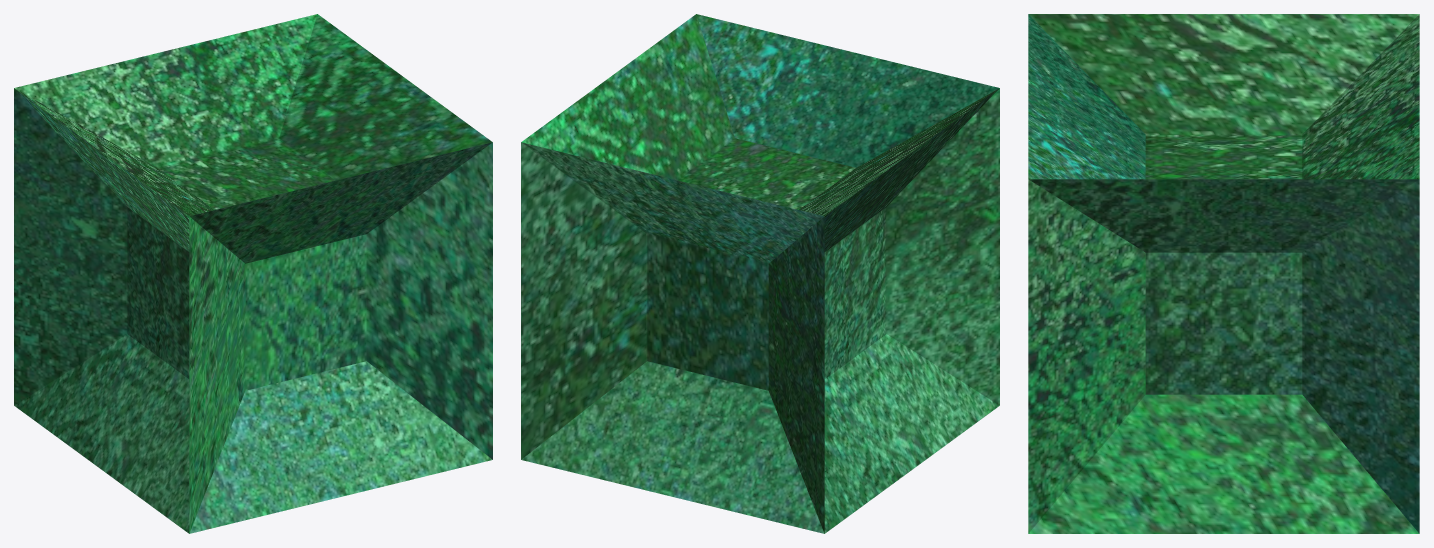
File: silicone.glb
3 views of the same model, side by side, from view 1: azimuth 30°, elevation 25°; view 2: azimuth 150°, elevation 25°; view 3: azimuth 270°, elevation 25° (orthographic). The views are drawn at different scales.
Parts seen in each view (by area): view 1: silicone; view 2: silicone; view 3: silicone.
Boxes of the visible parts, x1,y1,x2,y2 form: silicone: [14, 14, 492, 533]; silicone: [521, 14, 999, 533]; silicone: [1028, 14, 1419, 533].
Size of the model in its own units: 1 by 1 by 1.
Materials: 1 (1 with a texture image).
